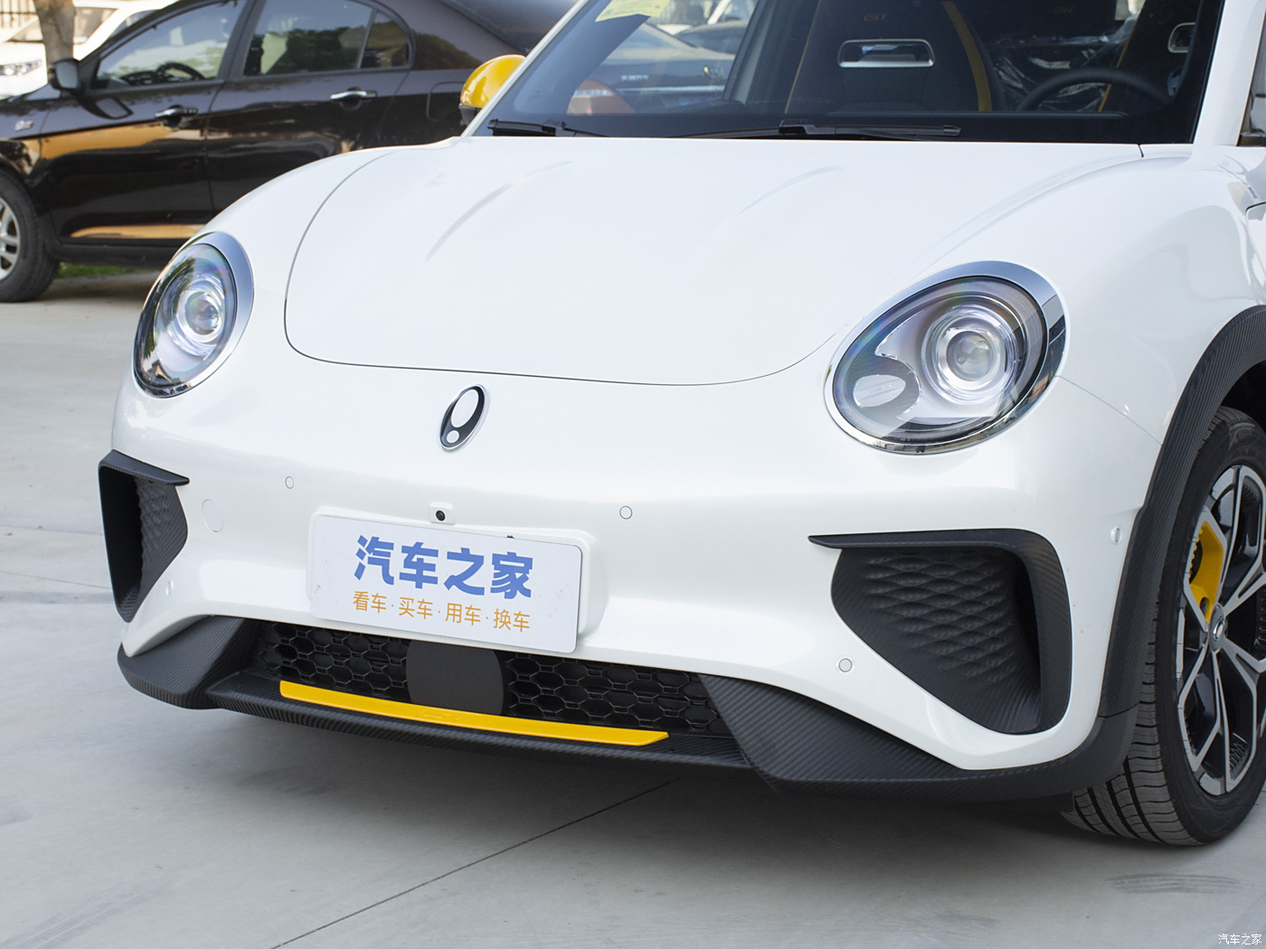ORA: (439, 386, 485, 450)
